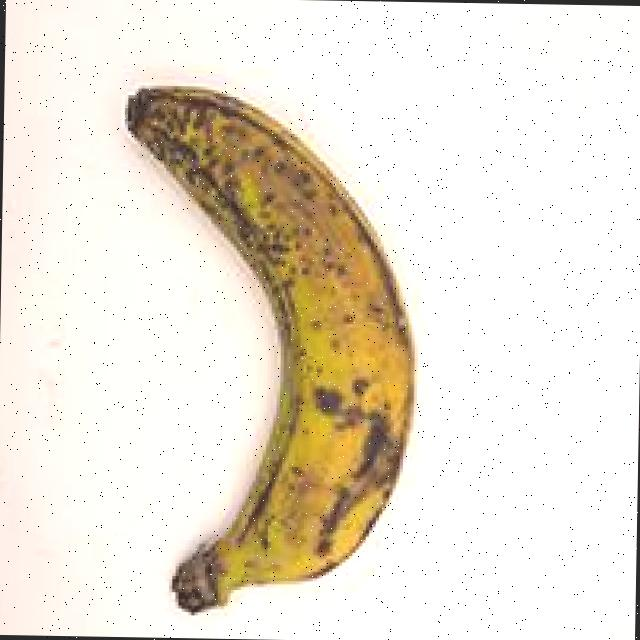Overripe: (52, 46, 461, 640)
